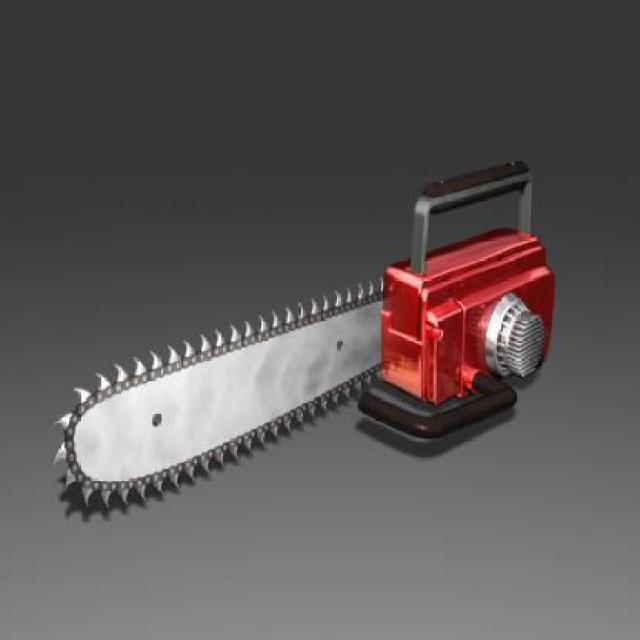Chainsaw: (52, 157, 554, 511)
